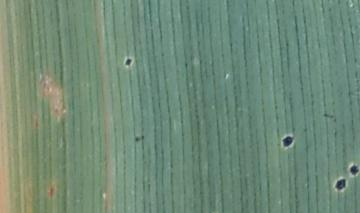tarspot: (278, 134, 296, 149), (333, 177, 347, 192), (348, 163, 360, 178), (321, 111, 337, 121), (123, 57, 133, 67), (48, 185, 55, 197), (133, 136, 140, 143)
